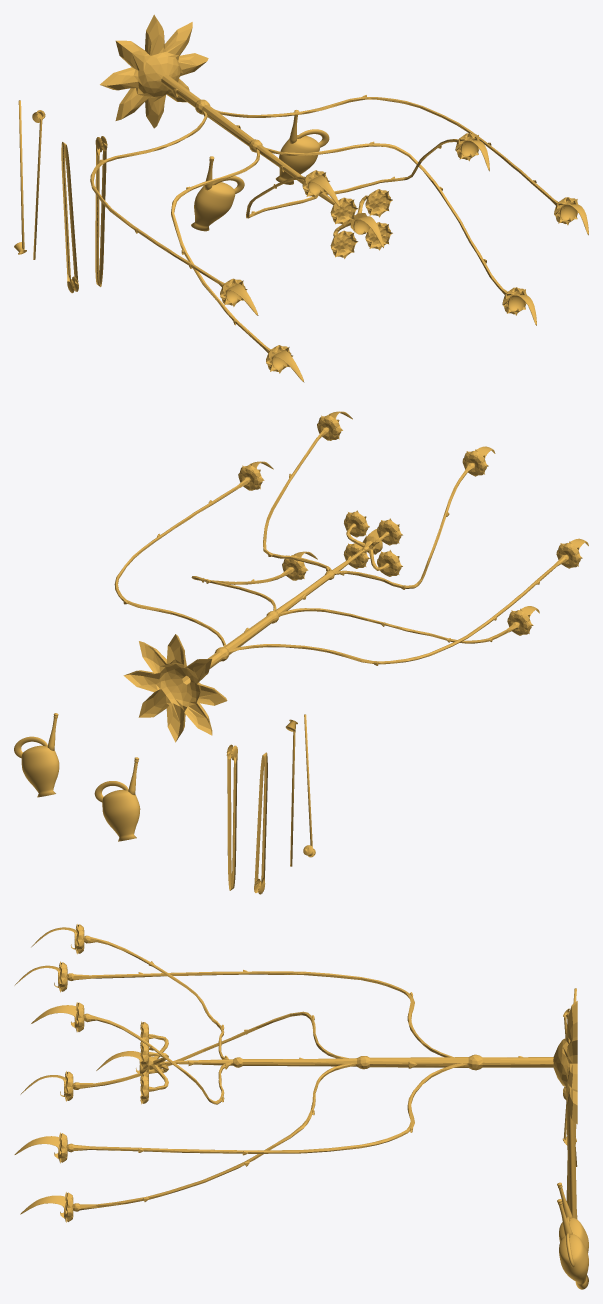
Rendered from tabernacle-menorah-detail.optimized.glb.
The picture shows the model from 3 angles, top to bottom: view 1: azimuth 30°, elevation 25°; view 2: azimuth 150°, elevation 25°; view 3: azimuth 270°, elevation 25°; orthographic projection. The views are drawn at different scales.
Visible parts, largest first — view 1: LampStand.001, Utensils, Tweezers, Tweezers.001, Utensils.001; view 2: LampStand.001, Utensils, Tweezers.001, Tweezers, Utensils.001; view 3: LampStand.001, Utensils, Tweezers.001.
Part boxes in pixels (x1,y1,x2,y2): LampStand.001: (90, 14, 578, 373); Utensils: (191, 110, 329, 231); Tweezers: (61, 142, 78, 293); Tweezers.001: (95, 136, 107, 286); Utensils.001: (14, 100, 45, 259); LampStand.001: (114, 414, 582, 742); Utensils: (14, 713, 140, 841); Tweezers.001: (226, 744, 237, 890); Tweezers: (254, 752, 267, 894); Utensils.001: (285, 714, 315, 866); LampStand.001: (59, 924, 577, 1222); Utensils: (557, 1182, 588, 1289); Tweezers.001: (563, 1087, 576, 1218).
Size of the model in its own units: 3.97 by 3.08 by 5.21.
